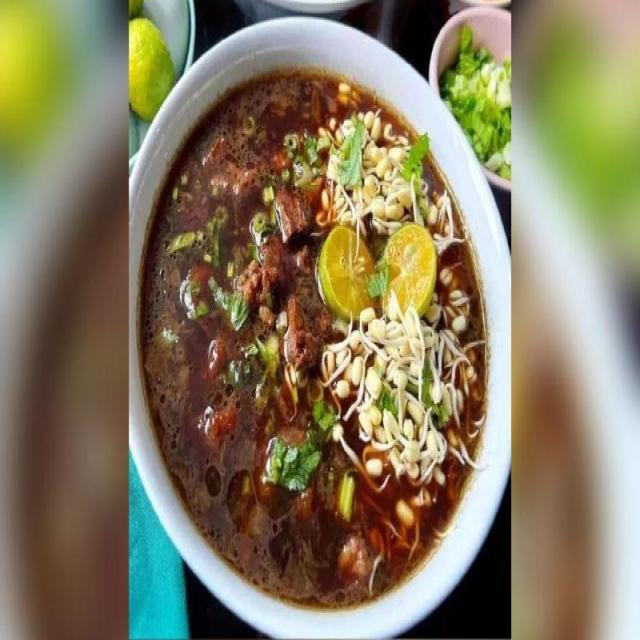Rawon: (153, 61, 469, 552)
